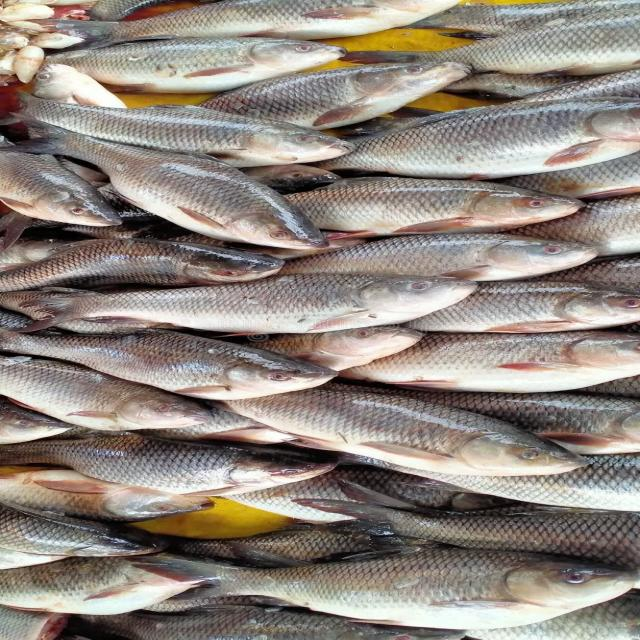Rohu: (0, 111, 327, 249), (200, 389, 587, 478), (11, 272, 479, 334)
